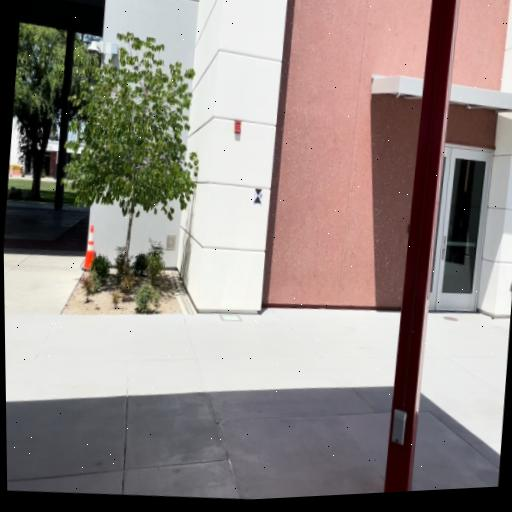target9: (253, 188, 263, 204)
